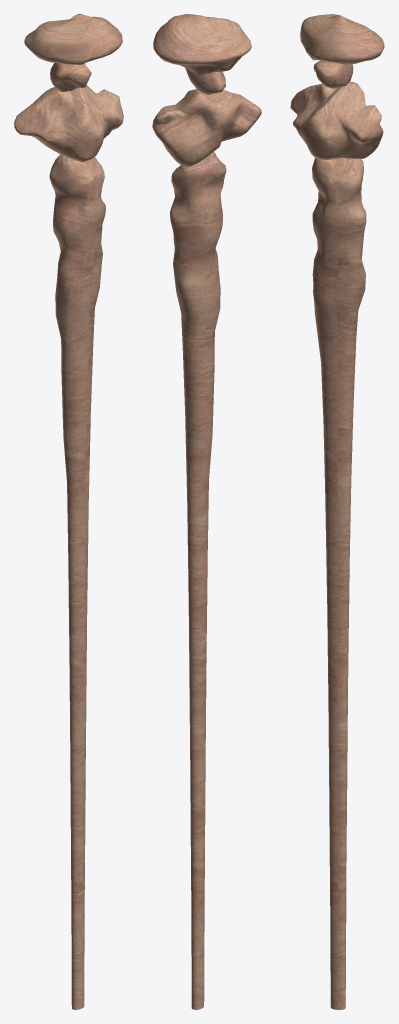
File: Ob_RockPillar8.fbx
The picture shows the model from 3 angles, left to right: view 1: azimuth 30°, elevation 25°; view 2: azimuth 210°, elevation 25°; view 3: azimuth 330°, elevation 25°; orthographic projection.
Parts seen in each view (by area): view 1: Ob_RockPillar8; view 2: Ob_RockPillar8; view 3: Ob_RockPillar8.
Part boxes in pixels (box(x1,y1,x2,y2)): Ob_RockPillar8: box(14, 14, 123, 1009); Ob_RockPillar8: box(152, 14, 261, 1009); Ob_RockPillar8: box(290, 14, 384, 1009).
Size of the model in its own units: 17559 by 171228 by 12965.
